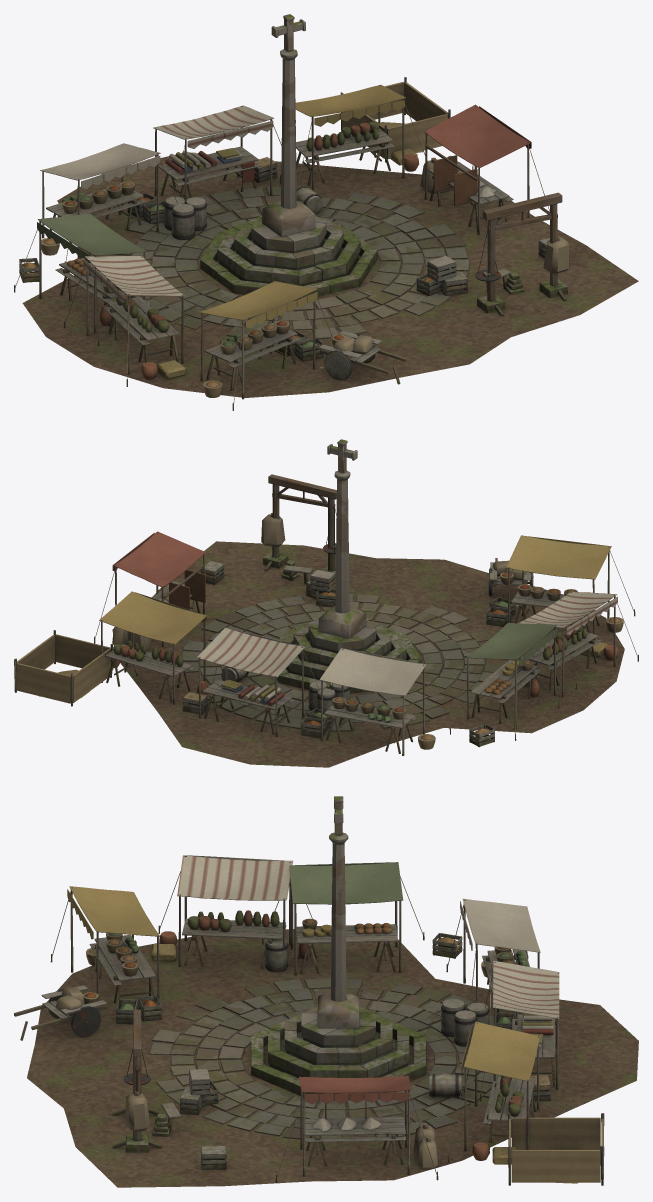
Rendered from market.glb.
The picture shows the model from 3 angles, top to bottom: view 1: azimuth 30°, elevation 25°; view 2: azimuth 150°, elevation 25°; view 3: azimuth 270°, elevation 25°; orthographic projection. The views are drawn at different scales.
Visible parts, largest first — view 1: market_LOD0; view 2: market_LOD0; view 3: market_LOD0.
Part boxes in pixels (<box>): market_LOD0: <box>14,14,638,410</box>; market_LOD0: <box>14,439,638,767</box>; market_LOD0: <box>14,796,638,1187</box>.
Size of what is drawn, in the model's own units: 15.22 by 7.2 by 15.52.
Materials: 1 (1 with a texture image).
